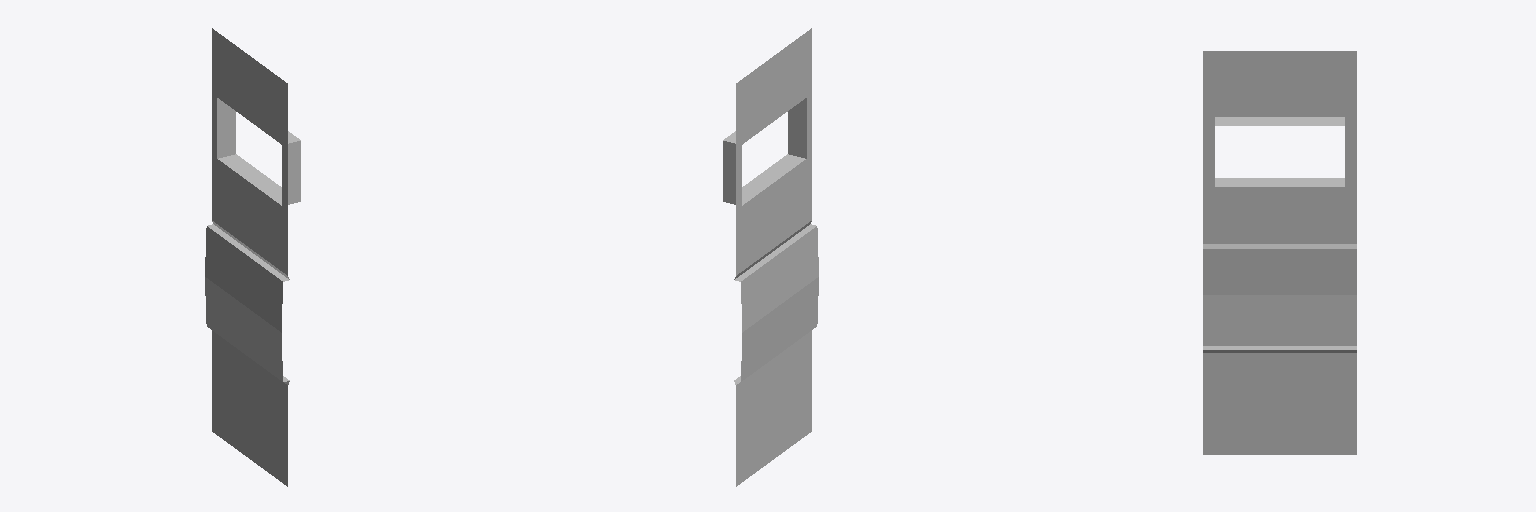
The model's file is door.obj.
3 views of the same model, side by side, from view 1: azimuth 30°, elevation 25°; view 2: azimuth 150°, elevation 25°; view 3: azimuth 270°, elevation 25° (orthographic).
Parts seen in each view (by area): view 1: Cube.009_Cube.013; view 2: Cube.009_Cube.013; view 3: Cube.009_Cube.013.
Boxes of the visible parts, box(x1,y1,x2,y2) form: Cube.009_Cube.013: box(205, 28, 300, 486); Cube.009_Cube.013: box(723, 28, 818, 486); Cube.009_Cube.013: box(1203, 51, 1356, 454).
Size of the model in its own units: 0.5155 by 7.74 by 2.67.